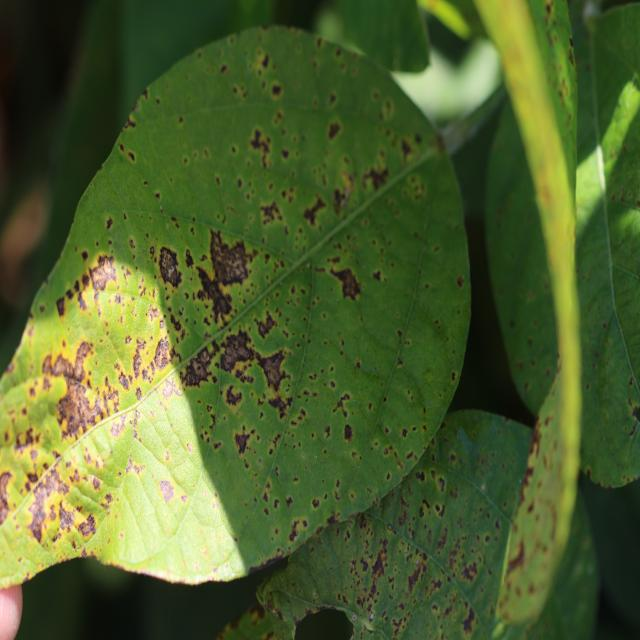Bacterial_Blight: (186, 330, 281, 384), (200, 220, 257, 305), (123, 318, 176, 390), (24, 462, 70, 544), (55, 377, 101, 441), (358, 536, 393, 605), (88, 254, 118, 293), (329, 266, 362, 301), (248, 126, 273, 166), (158, 246, 181, 288), (72, 340, 94, 381), (362, 162, 390, 193), (0, 469, 15, 525), (302, 195, 327, 227), (265, 393, 292, 421), (506, 537, 526, 572), (14, 426, 41, 451), (405, 173, 426, 201), (260, 200, 283, 224), (234, 427, 253, 456), (406, 561, 423, 593), (224, 384, 243, 408), (333, 393, 351, 418), (461, 606, 476, 635), (159, 478, 176, 503), (460, 561, 478, 583), (118, 141, 135, 163), (327, 120, 342, 140), (289, 519, 304, 539), (118, 372, 131, 392), (147, 304, 160, 322), (56, 295, 66, 318), (343, 424, 354, 442), (271, 82, 282, 97), (105, 216, 113, 230), (456, 275, 464, 288), (324, 425, 331, 439)
Soybean: (0, 28, 470, 638)
